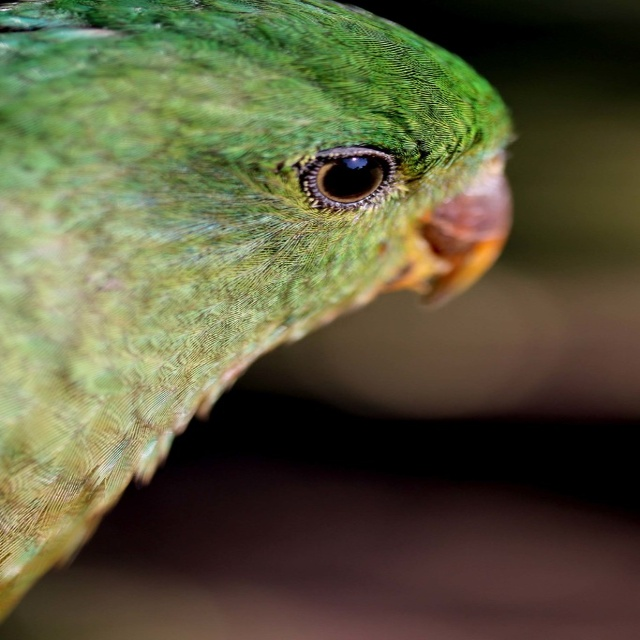Parrot: (0, 0, 518, 616)
